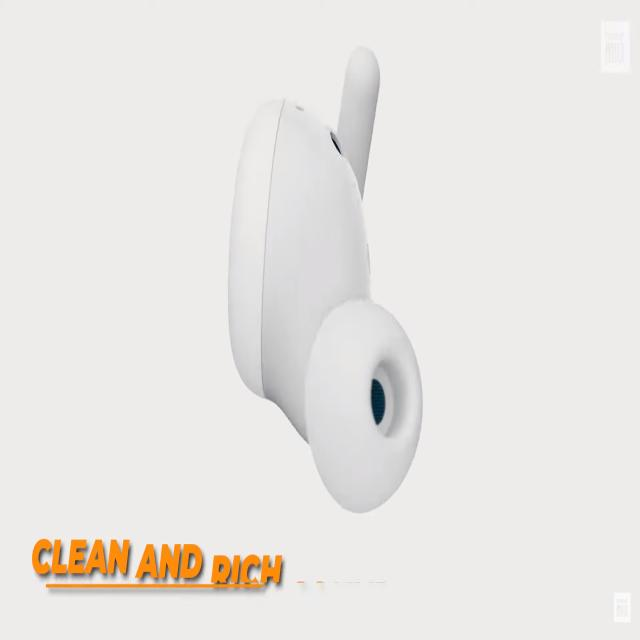airpods: (223, 44, 425, 516)
